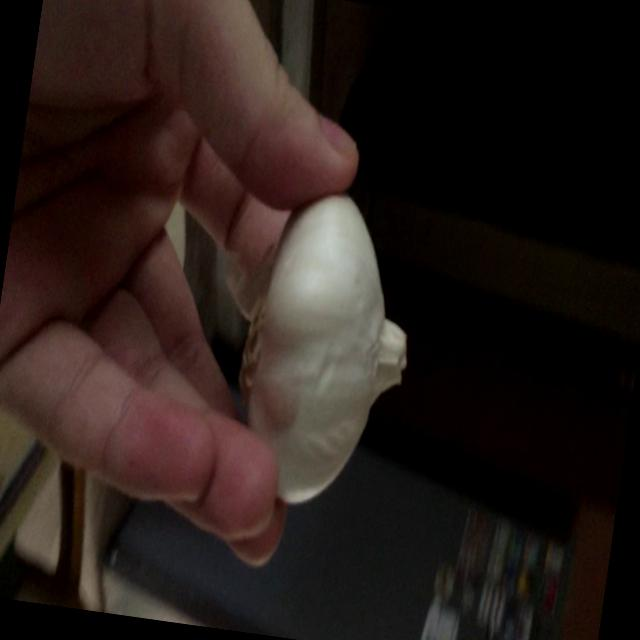garlic: (208, 174, 433, 528)
